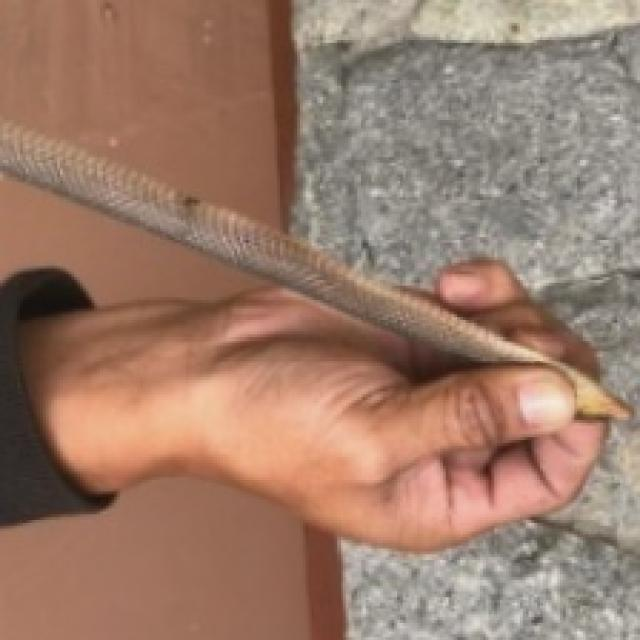gunthers philippine shrub snake: (0, 117, 629, 417)
